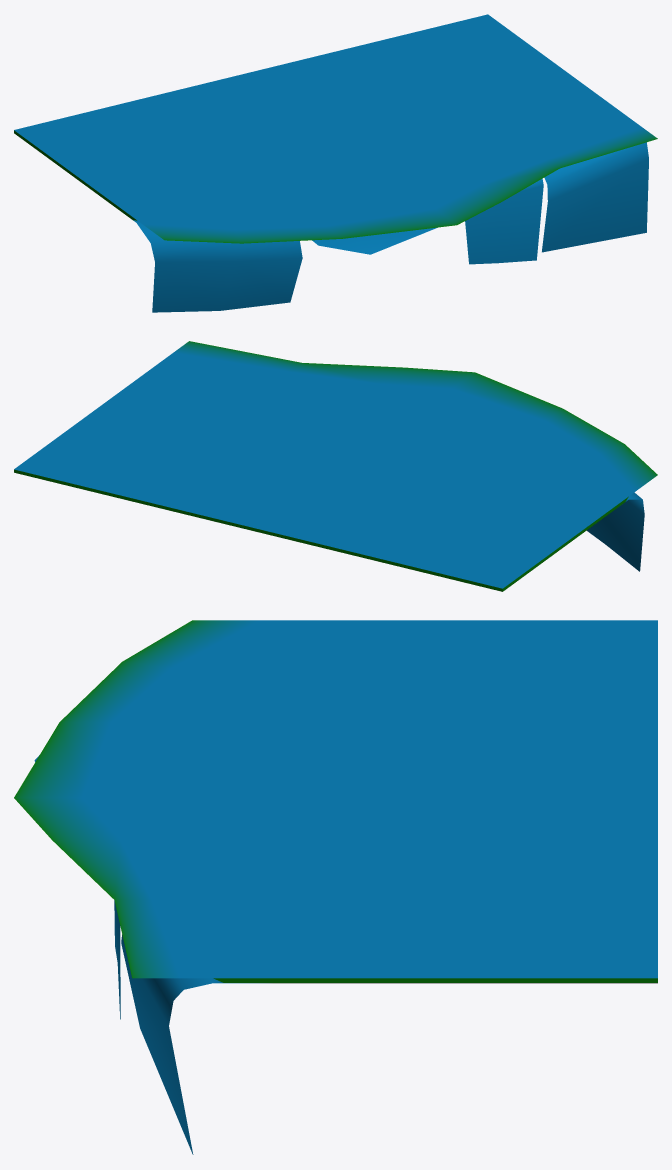
File: DBK_Drywall_Ceiling_Tile_B.fbx
3 renders of one model, top to bottom at view 1: azimuth 30°, elevation 25°; view 2: azimuth 150°, elevation 25°; view 3: azimuth 270°, elevation 25°, orthographic. The views are drawn at different scales.
Parts seen in each view (by area): view 1: DBK_Drywall_Ceiling_Tile_B; view 2: DBK_Drywall_Ceiling_Tile_B; view 3: DBK_Drywall_Ceiling_Tile_B.
Part boxes in pixels (left/top/right/bottom): DBK_Drywall_Ceiling_Tile_B: left=14, top=14, right=657, bottom=312; DBK_Drywall_Ceiling_Tile_B: left=14, top=341, right=657, bottom=591; DBK_Drywall_Ceiling_Tile_B: left=14, top=620, right=657, bottom=1154.
Size of what is drawn, in the model's own units: 305 by 66.84 by 228.
